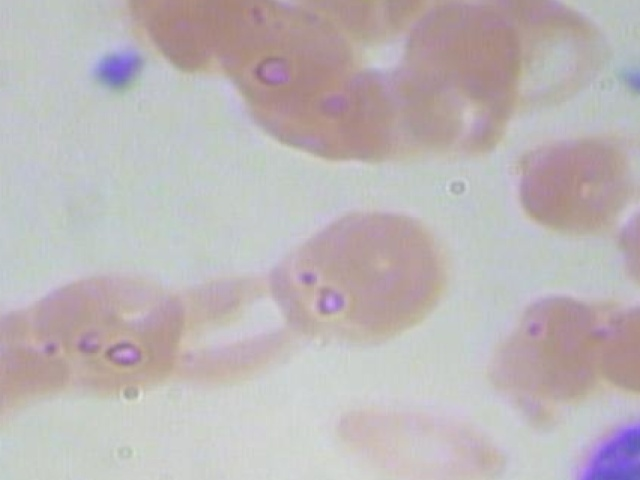Platelets: (78, 42, 157, 92), (616, 64, 640, 103)
RBC: (257, 209, 447, 354), (21, 264, 209, 395), (476, 285, 613, 440), (147, 259, 322, 380), (325, 391, 517, 480), (500, 132, 631, 239), (592, 294, 640, 415), (607, 176, 640, 305)
WBC: (563, 397, 640, 480)
